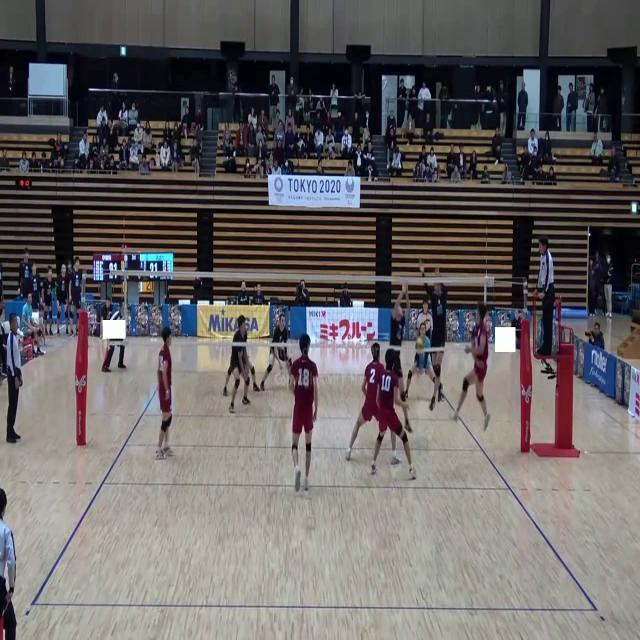volleyball: (416, 337, 424, 353)
